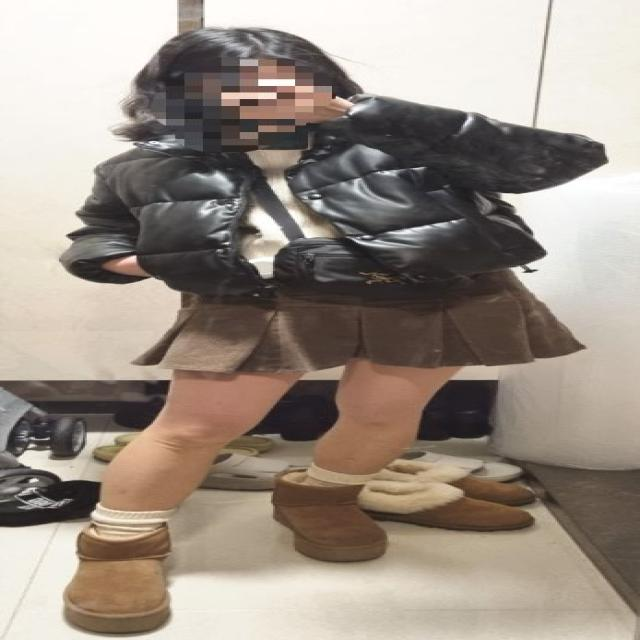padding: (58, 97, 614, 297)
skirt: (129, 269, 590, 379)
